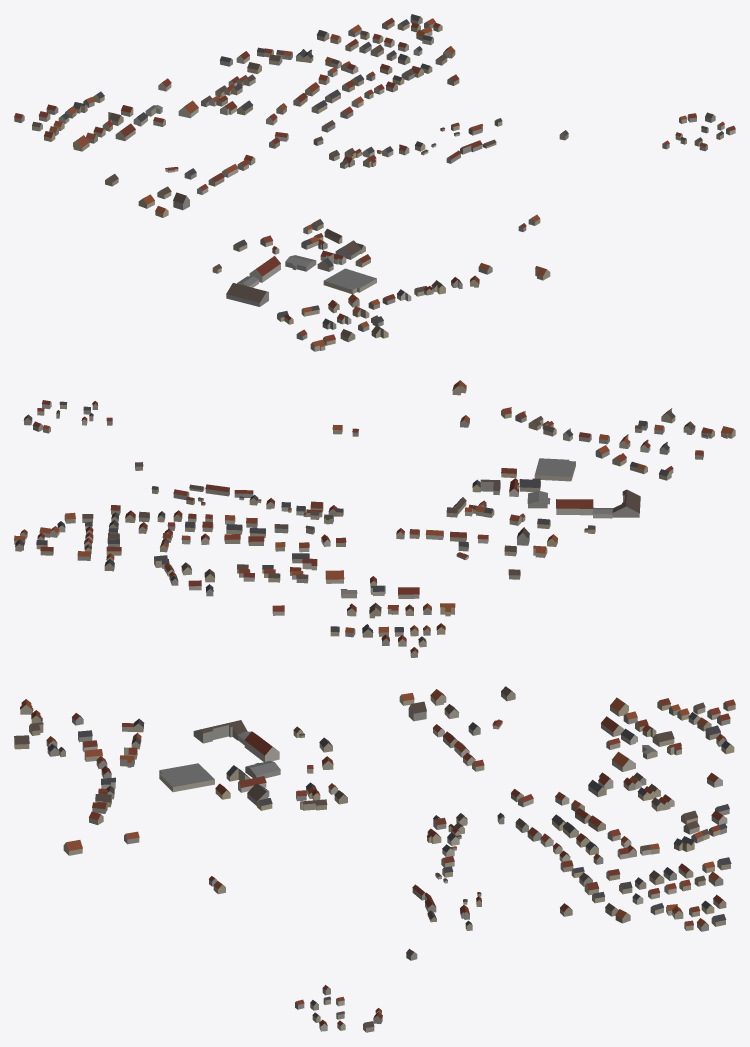
3 renders of one model, top to bottom at view 1: azimuth 30°, elevation 25°; view 2: azimuth 150°, elevation 25°; view 3: azimuth 270°, elevation 25°, orthographic. The views are drawn at different scales.
Parts seen in each view (by area): view 1: buildings; view 2: buildings; view 3: buildings.
Part boxes in pixels (box(x1,y1,x2,y2)): buildings: box(14, 14, 735, 351); buildings: box(14, 380, 735, 657); buildings: box(14, 686, 735, 1032).
Bounding box in the file's own units: 796 × 56.96 × 780.
